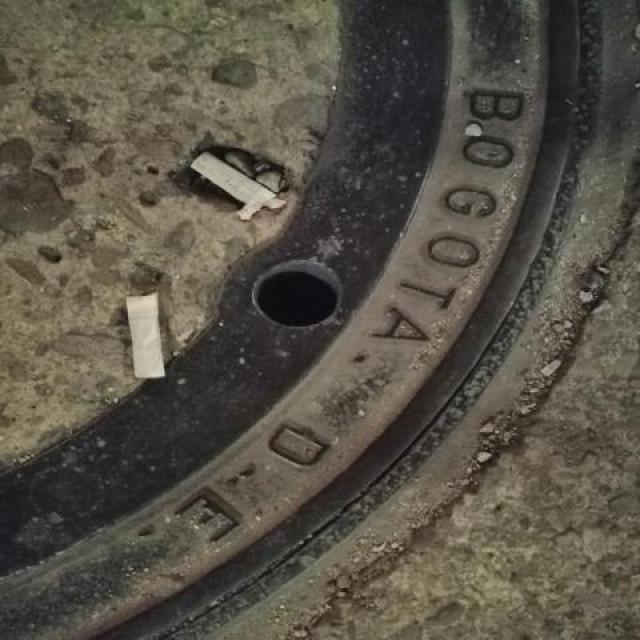non-organic waste: (185, 142, 291, 231), (122, 286, 173, 390)
